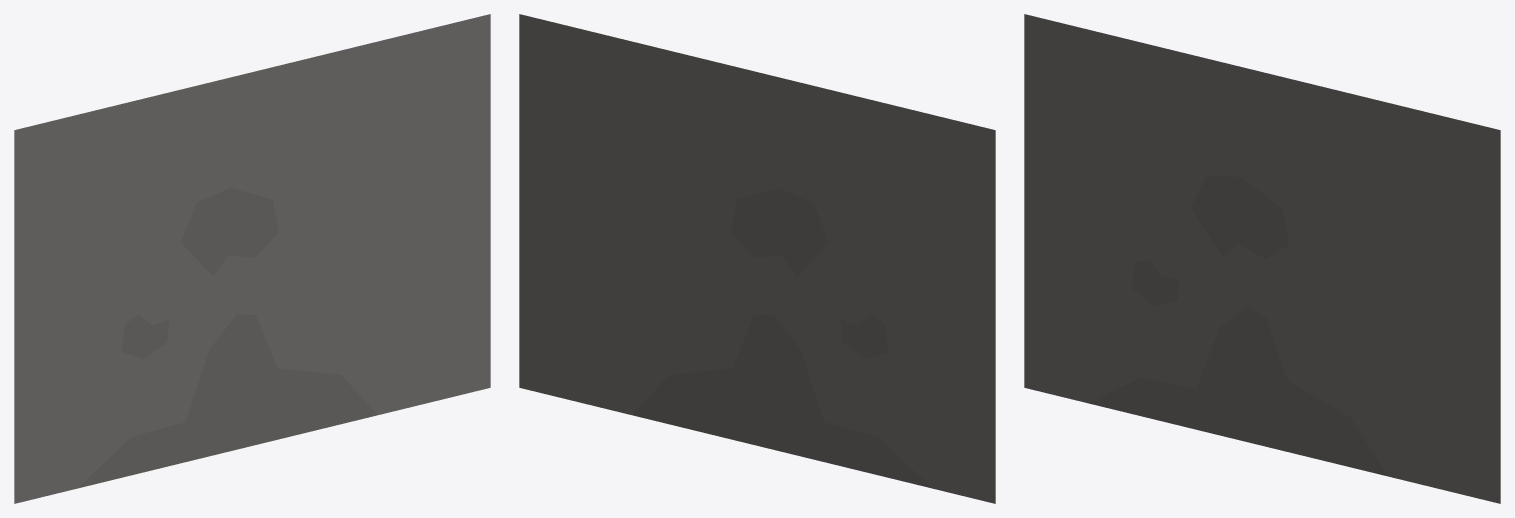
Rendered from AI_Env_Sewer_Wall_Stained_02.fbx.
3 views of the same model, side by side, from view 1: azimuth 30°, elevation 25°; view 2: azimuth 150°, elevation 25°; view 3: azimuth 330°, elevation 25° (orthographic).
Parts seen in each view (by area): view 1: AI_Env_Sewer_Wall_Stained_02; view 2: AI_Env_Sewer_Wall_Stained_02; view 3: AI_Env_Sewer_Wall_Stained_02.
Part boxes in pixels (x1,y1,x2,y2): AI_Env_Sewer_Wall_Stained_02: (14, 14, 490, 503); AI_Env_Sewer_Wall_Stained_02: (519, 14, 995, 503); AI_Env_Sewer_Wall_Stained_02: (1024, 14, 1500, 503).
Bounding box in the file's own units: 5 × 3.75 × 1.05e-14.
